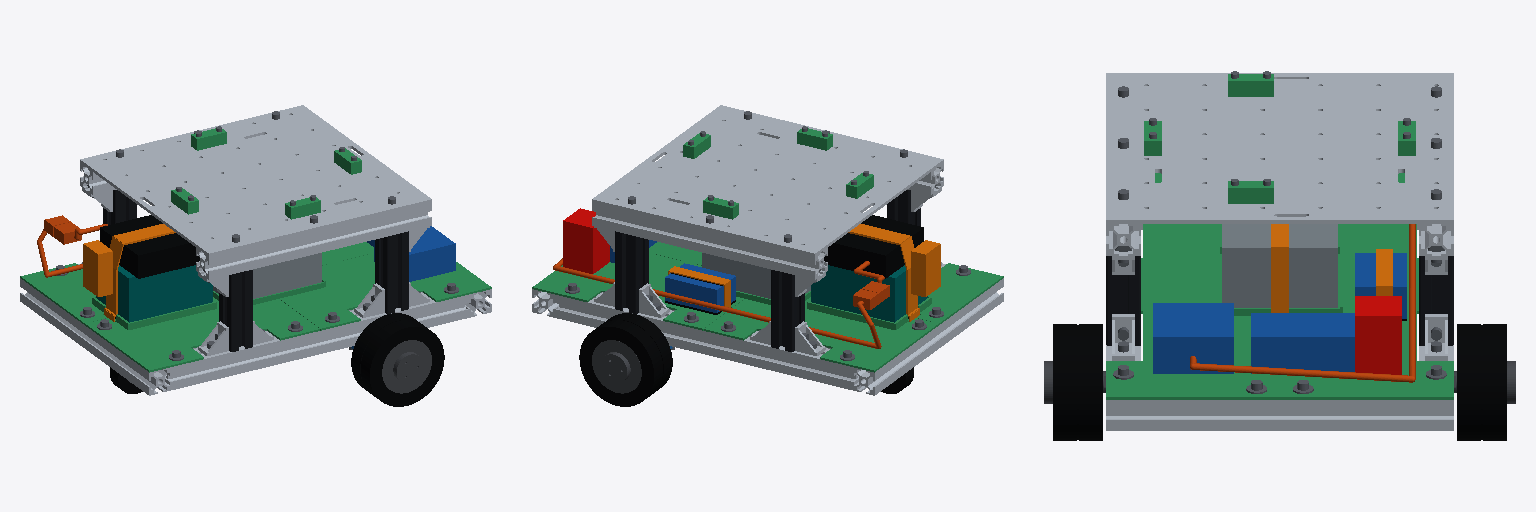
The robot description file, URDF, robot "amr_d63":
<?xml version='1.0' encoding='utf-8'?>
<robot name="amr_d63">
  <!--Generated from D6.3. SI units; +X forward, +Y left, +Z up. Inertias are estimates.-->
  <material name="aluminum">
    <color rgba="0.72 0.75 0.79 1" />
  </material>
  <material name="steel">
    <color rgba="0.38 0.4 0.43 1" />
  </material>
  <material name="pla">
    <color rgba="0.22 0.61 0.38 1" />
  </material>
  <material name="posts">
    <color rgba="0.12 0.13 0.15 1" />
  </material>
  <material name="mounts">
    <color rgba="0.15 0.43 0.69 1" />
  </material>
  <material name="motor">
    <color rgba="0.3 0.31 0.33 1" />
  </material>
  <material name="rubber">
    <color rgba="0.055 0.06 0.065 1" />
  </material>
  <material name="battery">
    <color rgba="0.02 0.4 0.4 1" />
  </material>
  <material name="computer">
    <color rgba="0.5 0.54 0.57 1" />
  </material>
  <material name="electronics">
    <color rgba="0.12 0.37 0.67 1" />
  </material>
  <material name="estop">
    <color rgba="0.85 0.08 0.06 1" />
  </material>
  <material name="belts">
    <color rgba="0.88 0.47 0.07 1" />
  </material>
  <material name="wires">
    <color rgba="0.76 0.3 0.08 1" />
  </material>
  <material name="payload">
    <color rgba="0.66 0.44 0.23 1" />
  </material>
  <link name="left_wheel_link">
    <inertial>
      <origin xyz="2.68715937167e-07 0.000842844210193 -1.43130870062e-06" rpy="0 0 0" />
      <mass value="0.45" />
      <inertia ixx="0.000337824360516" ixy="2.57511255333e-09" ixz="-2.83491628371e-11" iyy="0.000517319399072" iyz="-1.83797301139e-08" izz="0.000337817873043" />
    </inertial>
    <visual name="left_wheel_link_motor">
      <geometry>
        <mesh filename="meshes/left_wheel_link_motor.stl" scale="1 1 1" />
      </geometry>
      <material name="motor" />
    </visual>
    <visual name="left_wheel_link_rubber">
      <geometry>
        <mesh filename="meshes/left_wheel_link_rubber.stl" scale="1 1 1" />
      </geometry>
      <material name="rubber" />
    </visual>
    <collision name="left_wheel_link_rolling_contact">
      <origin xyz="0 0 0" rpy="1.57079632679 0 0" />
      <geometry>
        <cylinder radius="0.05035" length="0.043" />
      </geometry>
    </collision>
  </link>
  <link name="base_link">
    <inertial>
      <origin xyz="-0.093365971526 -0.000827260413554 0.0800225806213" rpy="0 0 0" />
      <mass value="8.9931237619" />
      <inertia ixx="0.117083180275" ixy="0.00168135991963" ixz="0.00524248085511" iyy="0.169145913506" iyz="0.00015598485754" izz="0.221889366576" />
    </inertial>
    <visual name="base_link_motor">
      <geometry>
        <mesh filename="meshes/base_link_motor.stl" scale="1 1 1" />
      </geometry>
      <material name="motor" />
    </visual>
    <visual name="base_link_steel">
      <geometry>
        <mesh filename="meshes/base_link_steel.stl" scale="1 1 1" />
      </geometry>
      <material name="steel" />
    </visual>
    <visual name="base_link_aluminum">
      <geometry>
        <mesh filename="meshes/base_link_aluminum.stl" scale="1 1 1" />
      </geometry>
      <material name="aluminum" />
    </visual>
    <visual name="base_link_mounts">
      <geometry>
        <mesh filename="meshes/base_link_mounts.stl" scale="1 1 1" />
      </geometry>
      <material name="mounts" />
    </visual>
    <visual name="base_link_pla">
      <geometry>
        <mesh filename="meshes/base_link_pla.stl" scale="1 1 1" />
      </geometry>
      <material name="pla" />
    </visual>
    <visual name="base_link_posts">
      <geometry>
        <mesh filename="meshes/base_link_posts.stl" scale="1 1 1" />
      </geometry>
      <material name="posts" />
    </visual>
    <visual name="base_link_electronics">
      <geometry>
        <mesh filename="meshes/base_link_electronics.stl" scale="1 1 1" />
      </geometry>
      <material name="electronics" />
    </visual>
    <visual name="base_link_estop">
      <geometry>
        <mesh filename="meshes/base_link_estop.stl" scale="1 1 1" />
      </geometry>
      <material name="estop" />
    </visual>
    <visual name="base_link_computer">
      <geometry>
        <mesh filename="meshes/base_link_computer.stl" scale="1 1 1" />
      </geometry>
      <material name="computer" />
    </visual>
    <visual name="base_link_battery">
      <geometry>
        <mesh filename="meshes/base_link_battery.stl" scale="1 1 1" />
      </geometry>
      <material name="battery" />
    </visual>
    <visual name="base_link_rubber">
      <geometry>
        <mesh filename="meshes/base_link_rubber.stl" scale="1 1 1" />
      </geometry>
      <material name="rubber" />
    </visual>
    <visual name="base_link_belts">
      <geometry>
        <mesh filename="meshes/base_link_belts.stl" scale="1 1 1" />
      </geometry>
      <material name="belts" />
    </visual>
    <visual name="base_link_wires">
      <geometry>
        <mesh filename="meshes/base_link_wires.stl" scale="1 1 1" />
      </geometry>
      <material name="wires" />
    </visual>
    <collision name="base_link_Rail400_1">
      <origin xyz="-0.09 -0.135 0.03365" rpy="0 0 0" />
      <geometry>
        <box size="0.4 0.03 0.03" />
      </geometry>
    </collision>
    <collision name="base_link_Rail400_2">
      <origin xyz="-0.09 -0.065 0.03365" rpy="0 0 0" />
      <geometry>
        <box size="0.4 0.03 0.03" />
      </geometry>
    </collision>
    <collision name="base_link_Rail400_3">
      <origin xyz="-0.09 0.065 0.03365" rpy="0 0 0" />
      <geometry>
        <box size="0.4 0.03 0.03" />
      </geometry>
    </collision>
    <collision name="base_link_Rail400_4">
      <origin xyz="-0.09 0.135 0.03365" rpy="0 0 0" />
      <geometry>
        <box size="0.4 0.03 0.03" />
      </geometry>
    </collision>
    <collision name="base_link_Cross300_1">
      <origin xyz="-0.305 0 0.03365" rpy="0 0 0" />
      <geometry>
        <box size="0.03 0.3 0.03" />
      </geometry>
    </collision>
    <collision name="base_link_Cross300_2">
      <origin xyz="0.125 0 0.03365" rpy="0 0 0" />
      <geometry>
        <box size="0.03 0.3 0.03" />
      </geometry>
    </collision>
    <collision name="base_link_CustomMotorMountL">
      <origin xyz="0 0.135 0.00165" rpy="0 0 0" />
      <geometry>
        <box size="0.09 0.03 0.034" />
      </geometry>
    </collision>
    <collision name="base_link_CustomMotorMountR">
      <origin xyz="0 -0.135 0.00165" rpy="0 0 0" />
      <geometry>
        <box size="0.09 0.03 0.034" />
      </geometry>
    </collision>
    <collision name="base_link_CasterAdapter">
      <origin xyz="-0.24 0 0.01665" rpy="0 0 0" />
      <geometry>
        <box size="0.08 0.17 0.004" />
      </geometry>
    </collision>
    <collision name="base_link_CasterTop">
      <origin xyz="-0.24 0 0.0134" rpy="0 0 0" />
      <geometry>
        <box size="0.059 0.047 0.0025" />
      </geometry>
    </collision>
    <collision name="base_link_Reserved_Protection">
      <origin xyz="0.08 -0.075 0.07915" rpy="0 0 0" />
      <geometry>
        <box size="0.07 0.07 0.035" />
      </geometry>
    </collision>
    <collision name="base_link_Reserved_ClampAndPower">
      <origin xyz="0.09 0.02 0.07915" rpy="0 0 0" />
      <geometry>
        <box size="0.05 0.09 0.035" />
      </geometry>
    </collision>
    <collision name="base_link_Reserved_EmergencyStop">
      <origin xyz="0.105 0.085 0.09165" rpy="0 0 0" />
      <geometry>
        <box size="0.04 0.04 0.06" />
      </geometry>
    </collision>
    <collision name="base_link_Reserved_SupervisorRS485">
      <origin xyz="-0.05 0.0875 0.06865" rpy="0 0 0" />
      <geometry>
        <box size="0.07 0.045 0.03" />
      </geometry>
    </collision>
    <collision name="base_link_Reserved_Computer">
      <origin xyz="-0.09 0 0.08365" rpy="0 0 0" />
      <geometry>
        <box size="0.12 0.1 0.06" />
      </geometry>
    </collision>
    <collision name="base_link_AluminumDeckD3">
      <origin xyz="-0.09 0 0.18065" rpy="0 0 0" />
      <geometry>
        <box size="0.3 0.3 0.004" />
      </geometry>
    </collision>
    <collision name="base_link_PrintedStopXN">
      <origin xyz="-0.1995 -0.025 0.19015" rpy="0 0 0" />
      <geometry>
        <box size="0.015 0.04 0.015" />
      </geometry>
    </collision>
    <collision name="base_link_PrintedStopXP">
      <origin xyz="0.0195 -0.025 0.19015" rpy="0 0 0" />
      <geometry>
        <box size="0.015 0.04 0.015" />
      </geometry>
    </collision>
    <collision name="base_link_PrintedStopYN">
      <origin xyz="-0.09 -0.1095 0.19015" rpy="0 0 0" />
      <geometry>
        <box size="0.04 0.015 0.015" />
      </geometry>
    </collision>
    <collision name="base_link_PrintedStopYP">
      <origin xyz="-0.09 0.1095 0.19015" rpy="0 0 0" />
      <geometry>
        <box size="0.04 0.015 0.015" />
      </geometry>
    </collision>
    <collision name="base_link_Upright3030_0">
      <origin xyz="-0.195 -0.135 0.09865" rpy="0 0 0" />
      <geometry>
        <box size="0.03 0.03 0.1" />
      </geometry>
    </collision>
    <collision name="base_link_Upright3030_1">
      <origin xyz="-0.195 0.135 0.09865" rpy="0 0 0" />
      <geometry>
        <box size="0.03 0.03 0.1" />
      </geometry>
    </collision>
    <collision name="base_link_Upright3030_2">
      <origin xyz="0.015 -0.135 0.09865" rpy="0 0 0" />
      <geometry>
        <box size="0.03 0.03 0.1" />
      </geometry>
    </collision>
    <collision name="base_link_Upright3030_3">
      <origin xyz="0.015 0.135 0.09865" rpy="0 0 0" />
      <geometry>
        <box size="0.03 0.03 0.1" />
      </geometry>
    </collision>
    <collision name="base_link_UpperRail3030_0">
      <origin xyz="-0.09 -0.135 0.16365" rpy="0 0 0" />
      <geometry>
        <box size="0.3 0.03 0.03" />
      </geometry>
    </collision>
    <collision name="base_link_UpperRail3030_1">
      <origin xyz="-0.09 0.135 0.16365" rpy="0 0 0" />
      <geometry>
        <box size="0.3 0.03 0.03" />
      </geometry>
    </collision>
    <collision name="base_link_seam_beam_0">
      <origin xyz="-0.09 0 0.0449" rpy="0 0 0" />
      <geometry>
        <box size="0.064 0.1 0.0025" />
      </geometry>
    </collision>
    <collision name="base_link_seam_beam_1">
      <origin xyz="-0.09 -0.02925 0.0474" rpy="0 0 0" />
      <geometry>
        <box size="0.064 0.0415 0.0025" />
      </geometry>
    </collision>
    <collision name="base_link_seam_beam_2">
      <origin xyz="-0.09 0.02925 0.0474" rpy="0 0 0" />
      <geometry>
        <box size="0.064 0.0415 0.0025" />
      </geometry>
    </collision>
    <collision name="base_link_seam_beam_3">
      <origin xyz="-0.1204 0 0.03615" rpy="0 0 0" />
      <geometry>
        <box size="0.0032 0.1 0.015" />
      </geometry>
    </collision>
    <collision name="base_link_seam_beam_4">
      <origin xyz="-0.0596 0 0.03615" rpy="0 0 0" />
      <geometry>
        <box size="0.0032 0.1 0.015" />
      </geometry>
    </collision>
    <collision name="base_link_seam_beam_5">
      <origin xyz="-0.09 -0.0484 0.03365" rpy="0 0 0" />
      <geometry>
        <box size="0.064 0.0032 0.02" />
      </geometry>
    </collision>
    <collision name="base_link_seam_beam_6">
      <origin xyz="-0.09 0.0484 0.03365" rpy="0 0 0" />
      <geometry>
        <box size="0.064 0.0032 0.02" />
      </geometry>
    </collision>
    <collision name="base_link_FloorPLA_0_0">
      <origin xyz="-0.2051 -0.0751 0.04985" rpy="0 0 0" />
      <geometry>
        <box size="0.2298 0.1498 0.0024" />
      </geometry>
    </collision>
    <collision name="base_link_FloorPLA_0_0_rib">
      <origin xyz="-0.206 -0.0235 0.04115" rpy="0 0 0" />
      <geometry>
        <box size="0.168 0.0174 0.015" />
      </geometry>
    </collision>
    <collision name="base_link_FloorPLA_0_1">
      <origin xyz="-0.2051 0.0751 0.04985" rpy="0 0 0" />
      <geometry>
        <box size="0.2298 0.1498 0.0024" />
      </geometry>
    </collision>
    <collision name="base_link_FloorPLA_0_1_rib">
      <origin xyz="-0.206 0.0235 0.04115" rpy="0 0 0" />
      <geometry>
        <box size="0.168 0.0174 0.015" />
      </geometry>
    </collision>
    <collision name="base_link_FloorPLA_1_0">
      <origin xyz="0.0251 -0.0751 0.04985" rpy="0 0 0" />
      <geometry>
        <box size="0.2298 0.1498 0.0024" />
      </geometry>
    </collision>
    <collision name="base_link_FloorPLA_1_0_rib">
      <origin xyz="0.026 -0.0235 0.04115" rpy="0 0 0" />
      <geometry>
        <box size="0.168 0.0174 0.015" />
      </geometry>
    </collision>
    <collision name="base_link_FloorPLA_1_1">
      <origin xyz="0.0251 0.0751 0.04985" rpy="0 0 0" />
      <geometry>
        <box size="0.2298 0.1498 0.0024" />
      </geometry>
    </collision>
    <collision name="base_link_FloorPLA_1_1_rib">
      <origin xyz="0.026 0.0235 0.04115" rpy="0 0 0" />
      <geometry>
        <box size="0.168 0.0174 0.015" />
      </geometry>
    </collision>
    <collision name="base_link_BatteryBL1860B">
      <origin xyz="-0.2265 0 0.08465" rpy="0 0 0" />
      <geometry>
        <box size="0.113 0.075 0.062" />
      </geometry>
    </collision>
    <collision name="base_link_BatteryAdapter03">
      <origin xyz="-0.2265 0 0.13065" rpy="0 0 0" />
      <geometry>
        <box size="0.095 0.09 0.03" />
      </geometry>
    </collision>
    <collision name="base_link_BatteryBuckleEnvelope">
      <origin xyz="-0.302 0 0.11715" rpy="0 0 0" />
      <geometry>
        <box size="0.02 0.035 0.055" />
      </geometry>
    </collision>
  </link>
  <link name="right_wheel_link">
    <inertial>
      <origin xyz="-2.68715937167e-07 -0.000842844210193 -1.43130870061e-06" rpy="0 0 0" />
      <mass value="0.45" />
      <inertia ixx="0.000337824360516" ixy="2.57511255324e-09" ixz="2.83491629754e-11" iyy="0.000517319399072" iyz="1.83797301136e-08" izz="0.000337817873043" />
    </inertial>
    <visual name="right_wheel_link_motor">
      <geometry>
        <mesh filename="meshes/right_wheel_link_motor.stl" scale="1 1 1" />
      </geometry>
      <material name="motor" />
    </visual>
    <visual name="right_wheel_link_rubber">
      <geometry>
        <mesh filename="meshes/right_wheel_link_rubber.stl" scale="1 1 1" />
      </geometry>
      <material name="rubber" />
    </visual>
    <collision name="right_wheel_link_rolling_contact">
      <origin xyz="0 0 0" rpy="1.57079632679 0 0" />
      <geometry>
        <cylinder radius="0.05035" length="0.043" />
      </geometry>
    </collision>
  </link>
  <link name="caster_swivel_link">
    <inertial>
      <origin xyz="-0.00208368833284 3.45547710101e-19 -0.0060383207606" rpy="0 0 0" />
      <mass value="0.0887160418696" />
      <inertia ixx="2.00832544816e-05" ixy="4.85850705141e-22" ixz="-4.29660604946e-06" iyy="1.90849352283e-05" iyz="-2.53397249247e-22" izz="1.76394659271e-05" />
    </inertial>
    <visual name="caster_swivel_link_steel">
      <geometry>
        <mesh filename="meshes/caster_swivel_link_steel.stl" scale="1 1 1" />
      </geometry>
      <material name="steel" />
    </visual>
    <collision name="caster_swivel_link_swivel_race">
      <origin xyz="0 0 0" rpy="0 0 0" />
      <geometry>
        <cylinder radius="0.019" length="0.009" />
      </geometry>
    </collision>
    <collision name="caster_swivel_link_fork_0">
      <origin xyz="-0.003 -0.0125 -0.01875" rpy="0 0 0" />
      <geometry>
        <box size="0.036 0.003 0.0285" />
      </geometry>
    </collision>
    <collision name="caster_swivel_link_fork_1">
      <origin xyz="-0.003 0.0125 -0.01875" rpy="0 0 0" />
      <geometry>
        <box size="0.036 0.003 0.0285" />
      </geometry>
    </collision>
    <collision name="caster_swivel_link_fork_2">
      <origin xyz="-0.016 0 -0.033" rpy="0 0 0" />
      <geometry>
        <box size="0.006 0.032 0.006" />
      </geometry>
    </collision>
  </link>
  <link name="caster_wheel_link">
    <inertial>
      <origin xyz="2.84217094304e-17 2.29472925463e-19 0" rpy="0 0 0" />
      <mass value="0.035507350075" />
      <inertia ixx="6.57068391835e-06" ixy="2.3584551378e-23" ixz="-1.75899594661e-20" iyy="1.0774211165e-05" iyz="-2.27653595497e-22" izz="6.57068391835e-06" />
    </inertial>
    <visual name="caster_wheel_link_rubber">
      <geometry>
        <mesh filename="meshes/caster_wheel_link_rubber.stl" scale="1 1 1" />
      </geometry>
      <material name="rubber" />
    </visual>
    <visual name="caster_wheel_link_steel">
      <geometry>
        <mesh filename="meshes/caster_wheel_link_steel.stl" scale="1 1 1" />
      </geometry>
      <material name="steel" />
    </visual>
    <collision name="caster_wheel_link_rolling_contact">
      <origin xyz="0 0 0" rpy="1.57079632679 0 0" />
      <geometry>
        <cylinder radius="0.025" length="0.02" />
      </geometry>
    </collision>
  </link>
  <joint name="left_wheel_joint" type="continuous">
    <parent link="base_link" />
    <child link="left_wheel_link" />
    <origin xyz="0 0.1745 0" rpy="0 0 0" />
    <axis xyz="0 1 0" />
    <limit effort="0.96" velocity="12.0427718388" />
    <dynamics damping="0" friction="0" />
  </joint>
  <joint name="right_wheel_joint" type="continuous">
    <parent link="base_link" />
    <child link="right_wheel_link" />
    <origin xyz="0 -0.1745 0" rpy="0 0 0" />
    <axis xyz="0 1 0" />
    <limit effort="0.96" velocity="12.0427718388" />
    <dynamics damping="0" friction="0" />
  </joint>
  <joint name="caster_swivel_joint" type="continuous">
    <parent link="base_link" />
    <child link="caster_swivel_link" />
    <origin xyz="-0.24 0 0.00765" rpy="0 0 0" />
    <axis xyz="0 0 1" />
    <limit effort="0" velocity="30" />
    <dynamics damping="0" friction="0" />
  </joint>
  <joint name="caster_wheel_joint" type="continuous">
    <parent link="caster_swivel_link" />
    <child link="caster_wheel_link" />
    <origin xyz="-0.016 0 -0.033" rpy="0 0 0" />
    <axis xyz="0 1 0" />
    <limit effort="0" velocity="30" />
    <dynamics damping="0" friction="0" />
  </joint>
</robot>

--- What the picture shows (computed from the rendered views, not written in the file) ---
3 views of the same robot in one strip: view 1: azimuth 30°, elevation 25°; view 2: azimuth 150°, elevation 25°; view 3: azimuth 270°, elevation 25° (orthographic).
Robot: amr_d63 — 5 links, 4 joints (4 continuous); root link base_link; default pose: all joints at 0.
Links seen in each view (by area): view 1: base_link, right_wheel_link; view 2: base_link, left_wheel_link; view 3: base_link, left_wheel_link, right_wheel_link.
Boxes of the visible links, bbox=[...] form: base_link: bbox=[20, 105, 491, 395]; right_wheel_link: bbox=[351, 313, 444, 406]; base_link: bbox=[532, 105, 1003, 395]; left_wheel_link: bbox=[579, 313, 672, 406]; base_link: bbox=[1103, 71, 1456, 430]; left_wheel_link: bbox=[1457, 324, 1515, 440]; right_wheel_link: bbox=[1044, 324, 1102, 440].
Bounding box of the posed robot: 0.46 × 0.4066 × 0.252 m (x, y, z).
20 mesh visuals loaded from 20 distinct referenced files (20 binary STL).
